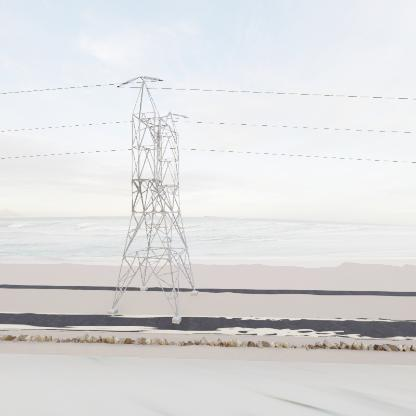tower: (110, 75, 197, 327)
